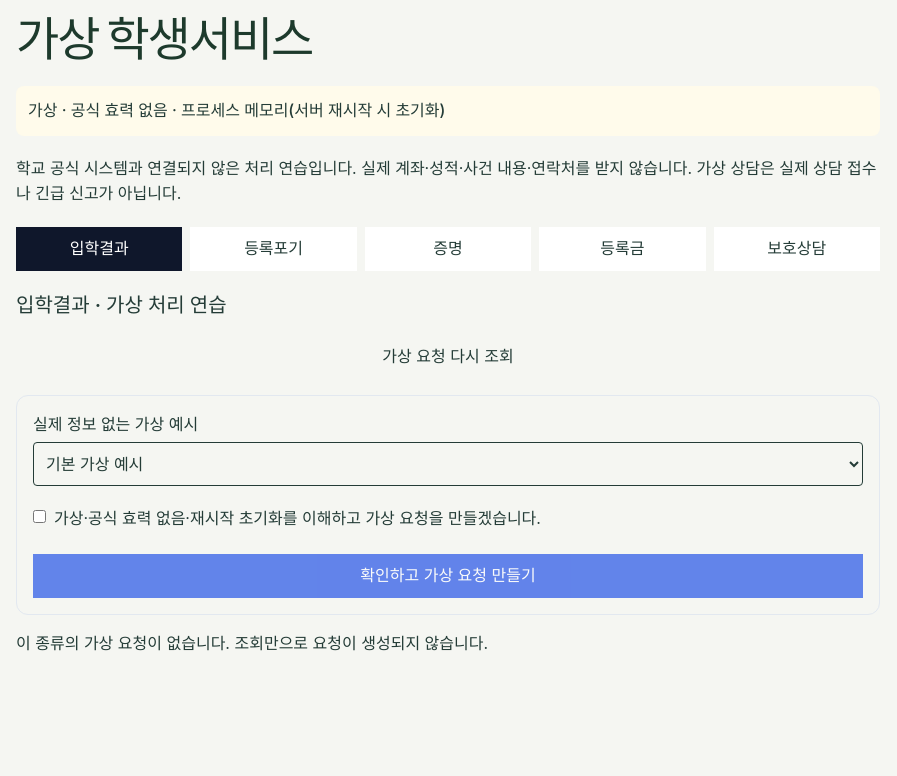
it: DemoStudentServices › retries an ambiguous failure with the same key/body only on request and blocks double submit
Check: the text "이 종류의 가상 요청이 없습니다. 조회만으로 요청이 생성되지 않습니다." is shown, box [16,632,488,652]
Click the checkbox at coordinates (40, 516), box [33,510,46,522]
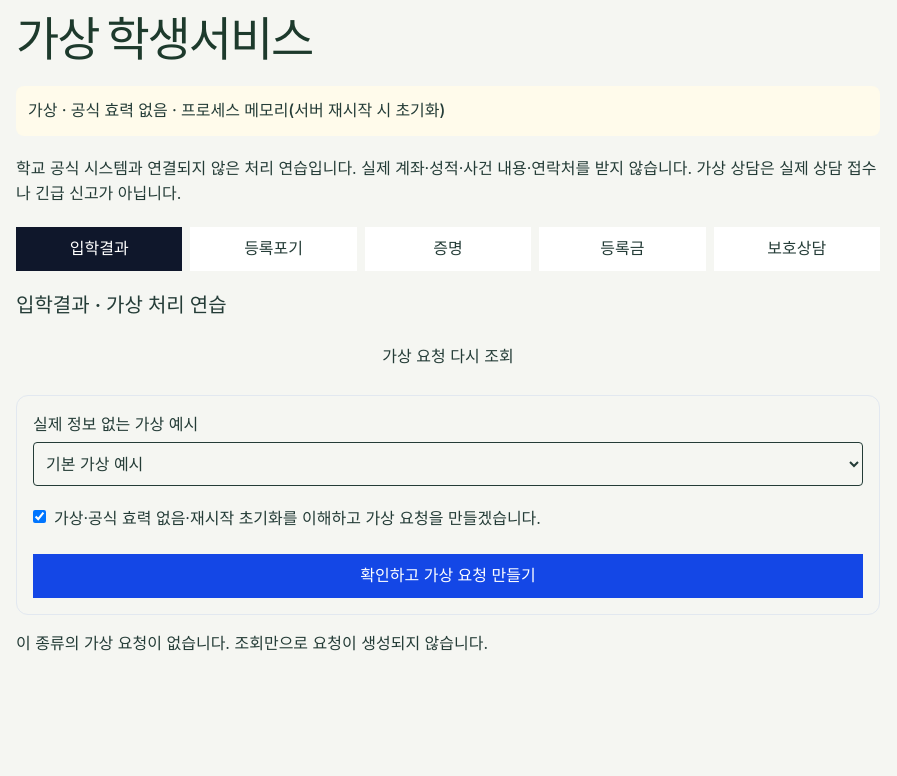
Submit the form "확인하고 가상 요청 만들기", box [16,395,880,614]
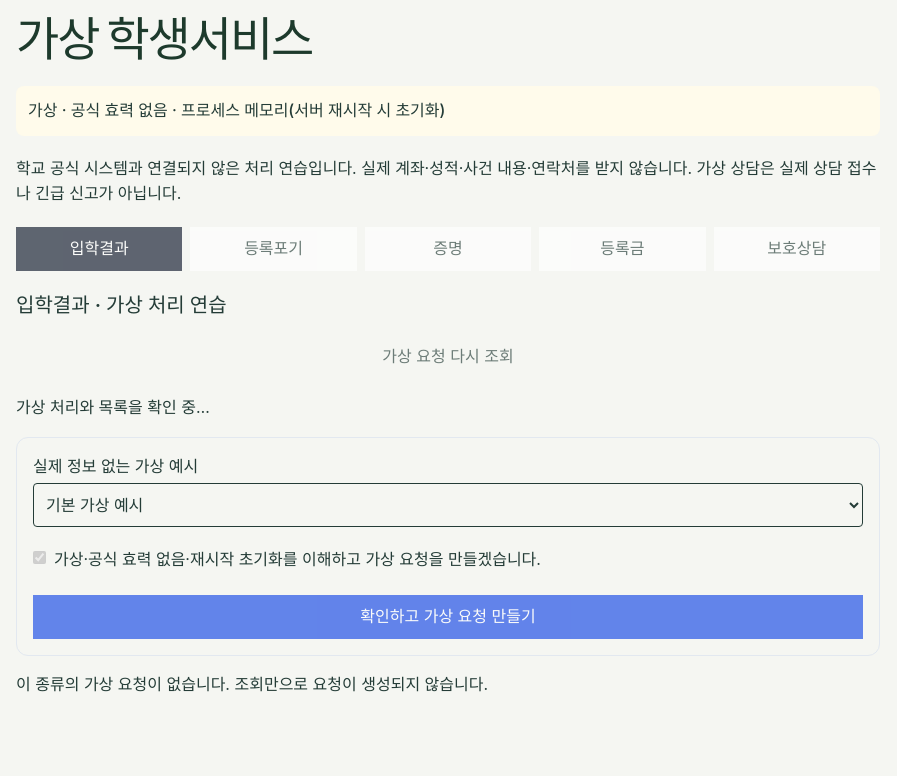
Submit the form "확인하고 가상 요청 만들기", box [16,436,880,656]
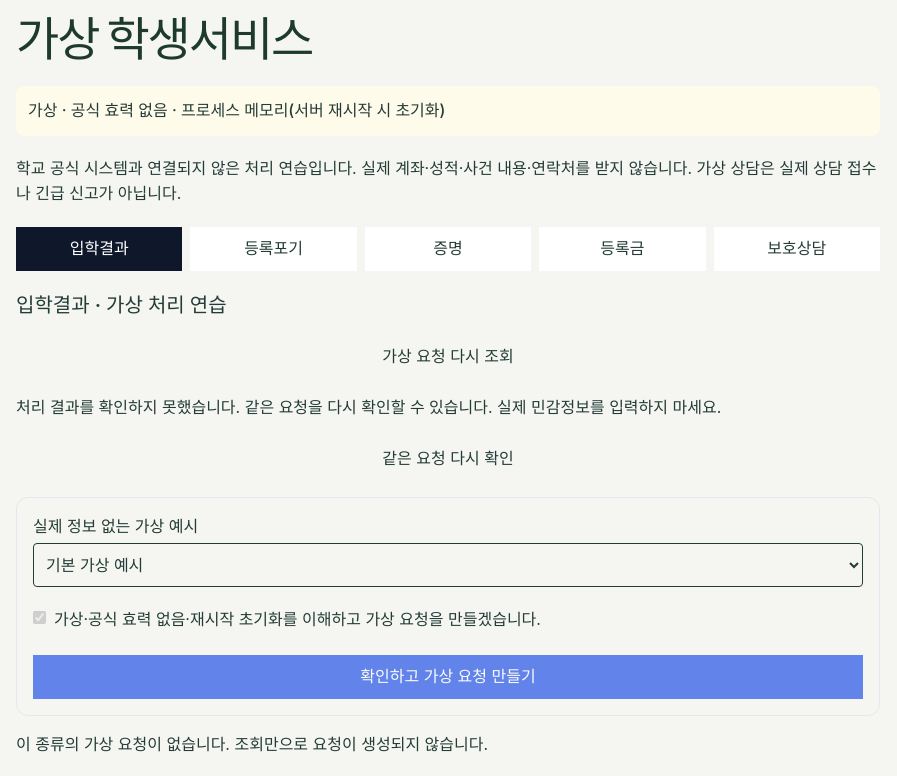
Click the button "같은 요청 다시 확인" at coordinates (448, 458), box [16,436,880,480]
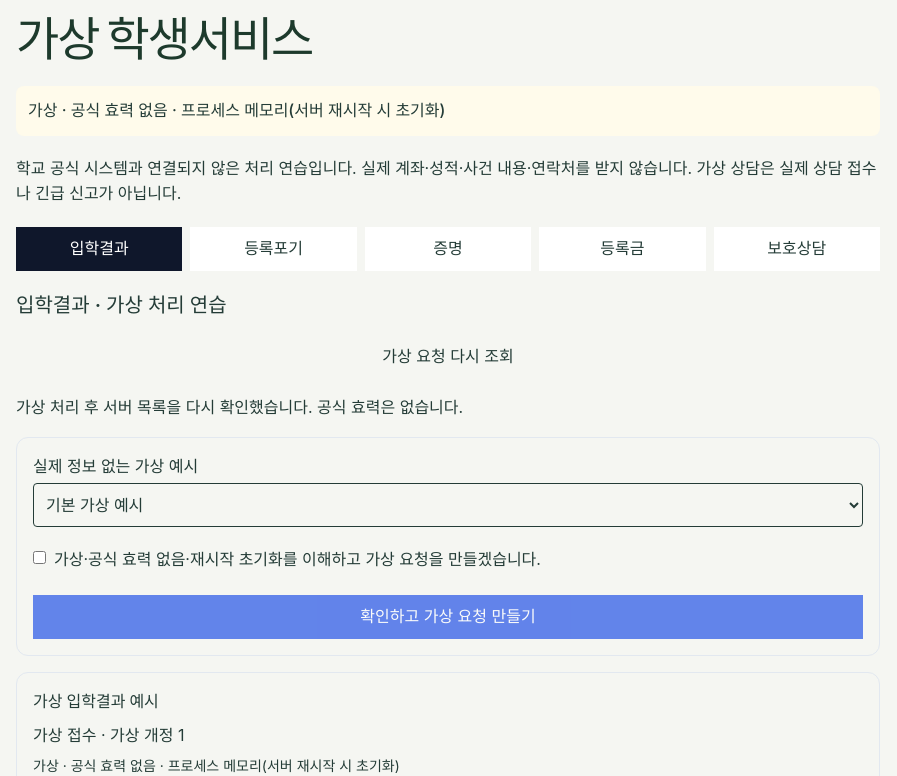
Check: the text "가상 처리 후 서버 목록을 다시 확인했습니다. 공식 효력은 없습니다." is shown, box [16,397,463,417]
